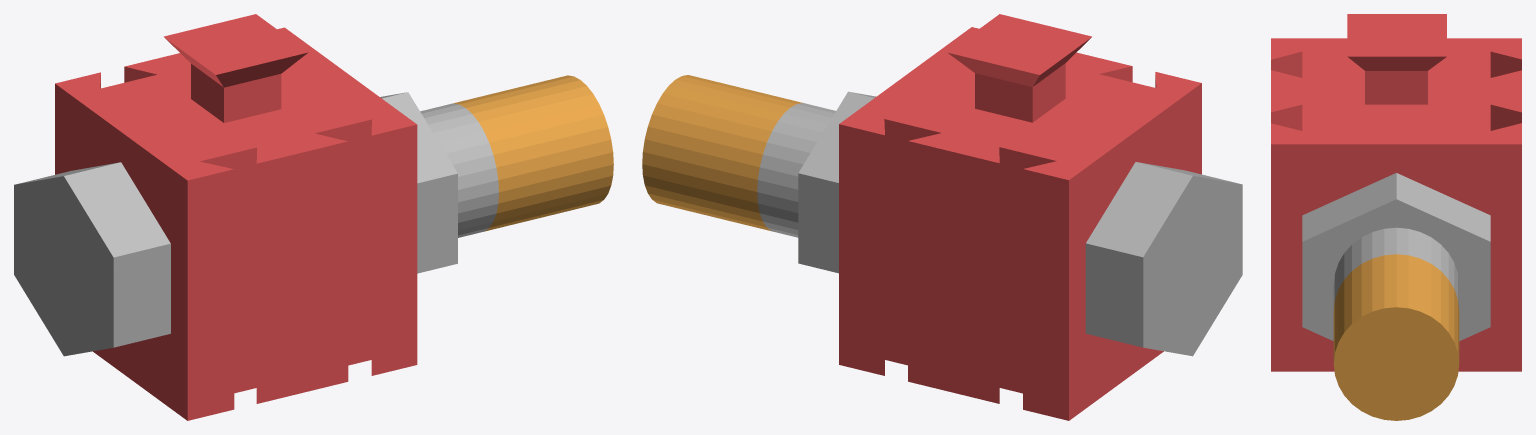
The model's file is sensor1.fbx.
The picture shows the model from 3 angles, left to right: view 1: azimuth 30°, elevation 25°; view 2: azimuth 150°, elevation 25°; view 3: azimuth 270°, elevation 25°; orthographic projection. The views are drawn at different scales.
Visible parts, largest first — view 1: Cube, Plane.001, Cylinder, Plane, Cylinder.001; view 2: Cube, Plane.001, Cylinder, Plane, Cylinder.001; view 3: Cube, Cylinder, Plane, Cylinder.001.
Part boxes in pixels (x1,y1,x2,y2): Cube: (55,14,417,420); Plane.001: (14,162,170,356); Cylinder: (454,75,613,231); Plane: (380,92,457,273); Cylinder.001: (420,103,498,237); Cube: (839,14,1201,420); Plane.001: (1085,162,1242,356); Cylinder: (642,75,802,231); Plane: (798,91,875,273); Cylinder.001: (757,103,835,237); Cube: (1271,14,1521,371); Cylinder: (1333,254,1459,420); Plane: (1302,173,1490,340); Cylinder.001: (1333,227,1459,309).
Bounding box in the file's own units: 450 × 249 × 200.
